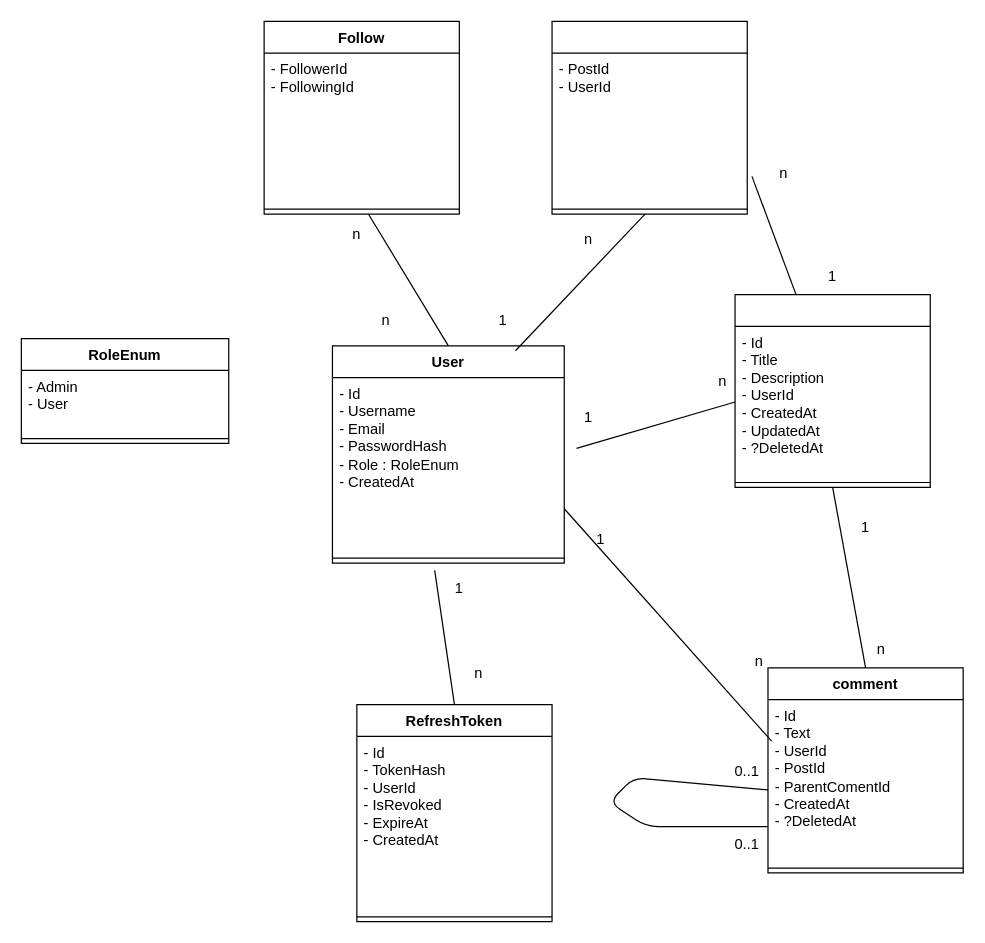
This 985x943 diagram has some shape labels left out. The box of each missing label's shape, as (x1, y1, x2, y2) in pixels:
Like: (551, 20, 747, 214)
Post: (734, 293, 930, 487)
